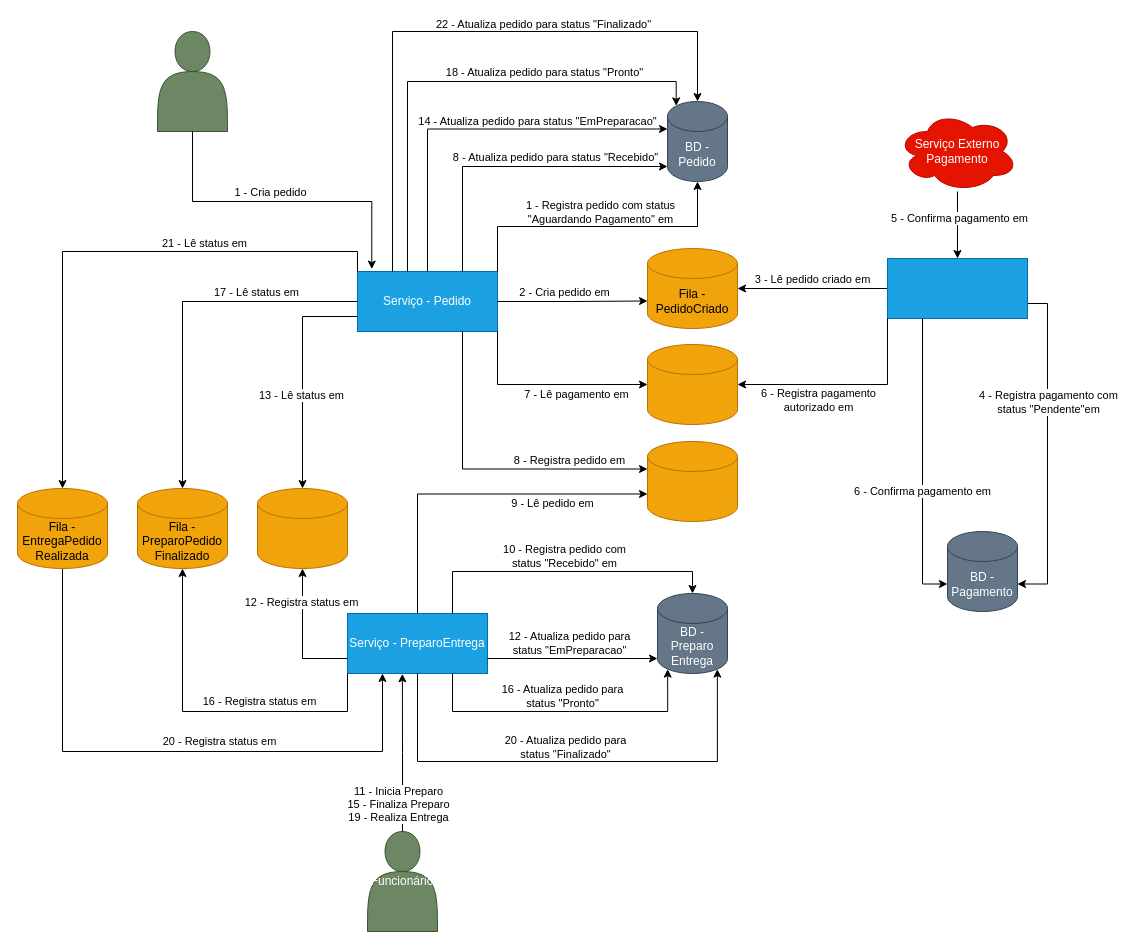
This 1135x949 diagram has some shape labels left out. Here are the shapes that lost their labels. From the top down, the box of each, then its label:
(156, 30, 228, 132): Cliente
(886, 258, 1028, 318): Serviço - Pagamento
(646, 344, 738, 424): Fila - Pagamento Autorizado
(646, 440, 738, 522): Fila - PedidoRecebido
(256, 488, 348, 568): Fila - PreparoPedido Iniciado
